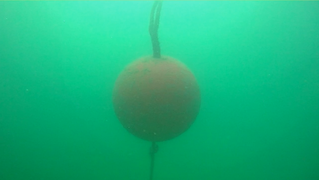bubble: (104, 118, 109, 123), (24, 87, 29, 92), (267, 72, 272, 77), (4, 16, 9, 21), (226, 135, 231, 140)
buoy: (111, 55, 201, 143)
